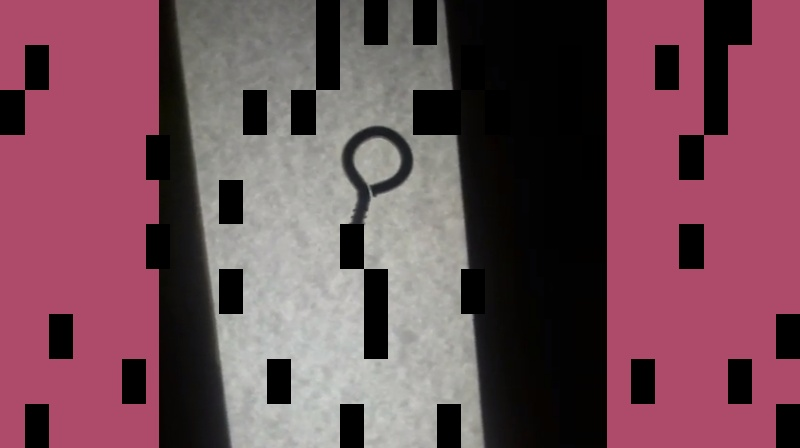O001: (341, 123, 416, 264)
